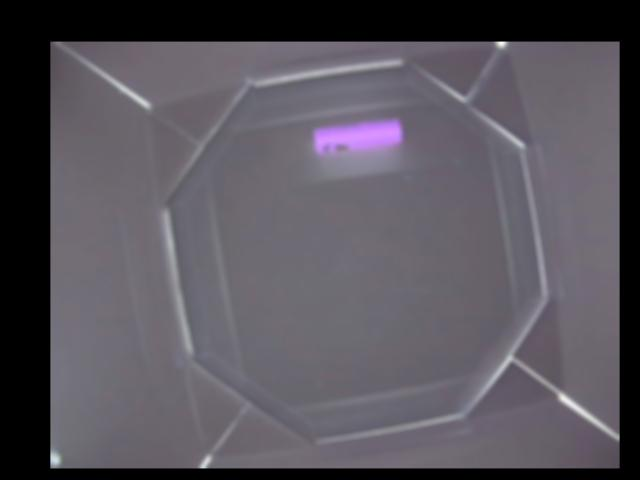Battery: (312, 118, 402, 150)
